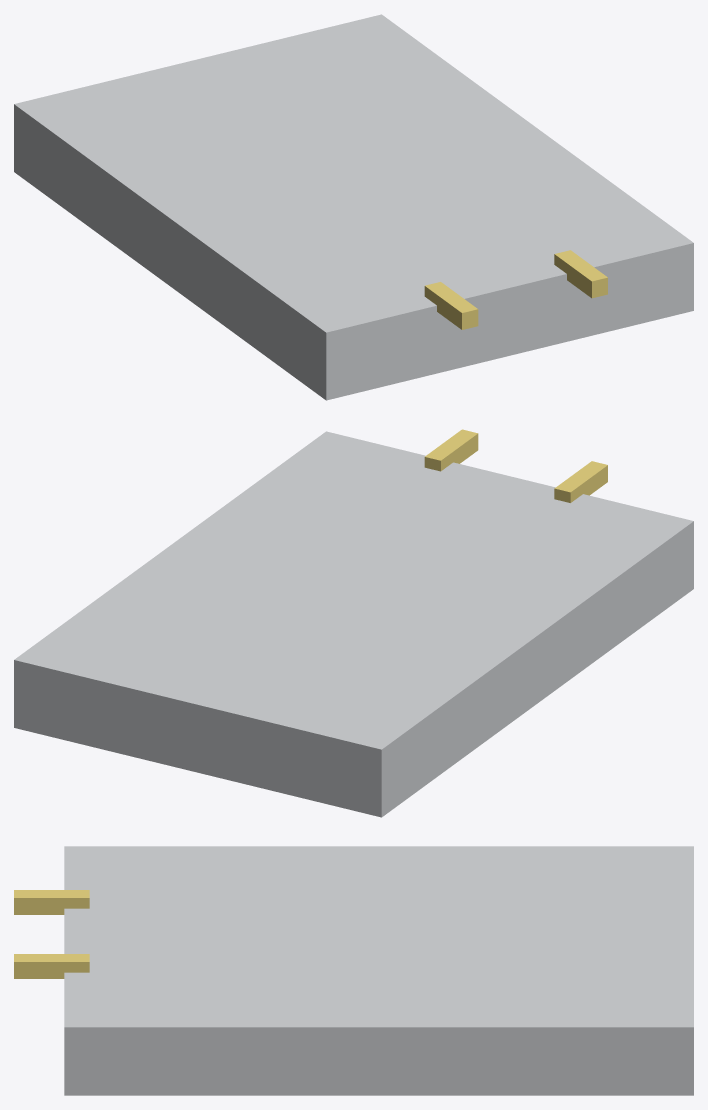
Rendered from battery_p.glb.
3 renders of one model, top to bottom at view 1: azimuth 30°, elevation 25°; view 2: azimuth 150°, elevation 25°; view 3: azimuth 270°, elevation 25°, orthographic.
Visible parts, largest first — view 1: Battery; view 2: Battery; view 3: Battery.
Boxes of the visible parts, x1=… form: Battery: x1=14, y1=14, x2=693, y2=400; Battery: x1=14, y1=429, x2=693, y2=817; Battery: x1=14, y1=846, x2=693, y2=1095.
Size of the model in its own units: 34 by 6.95 by 54.
